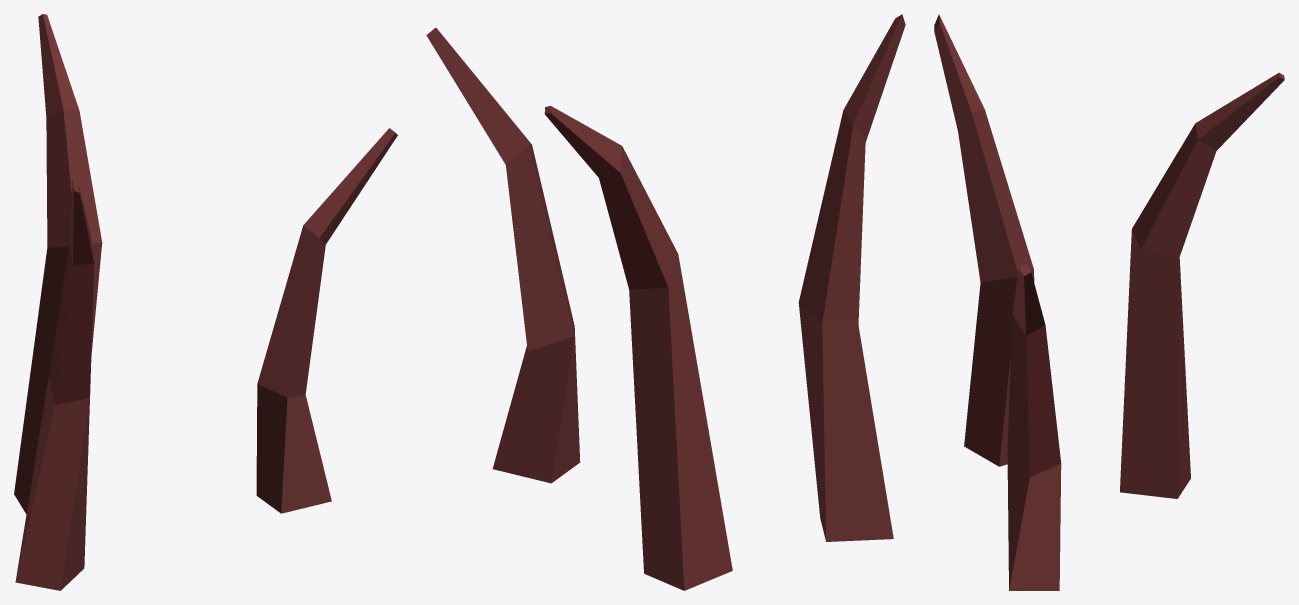
File: GrassAutumn1.fbx
3 views of the same model, side by side, from view 1: azimuth 30°, elevation 25°; view 2: azimuth 150°, elevation 25°; view 3: azimuth 270°, elevation 25° (orthographic). The views are drawn at different scales.
Parts seen in each view (by area): view 1: GrassAutumn1; view 2: GrassAutumn1; view 3: GrassAutumn1.
Boxes of the visible parts, x1,y1,x2,y2 form: GrassAutumn1: (14,14,397,590); GrassAutumn1: (426,14,905,590); GrassAutumn1: (934,14,1284,590).
Bounding box in the file's own units: 0.3561 × 0.3746 × 0.2695.
